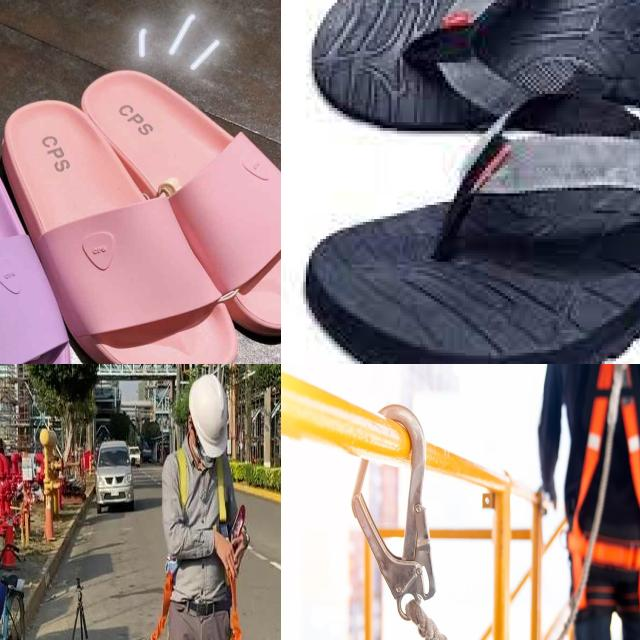Harness: (566, 364, 640, 572), (151, 560, 178, 640), (229, 579, 243, 640)
Sandals: (281, 0, 640, 364), (0, 63, 281, 364), (0, 111, 85, 364)
